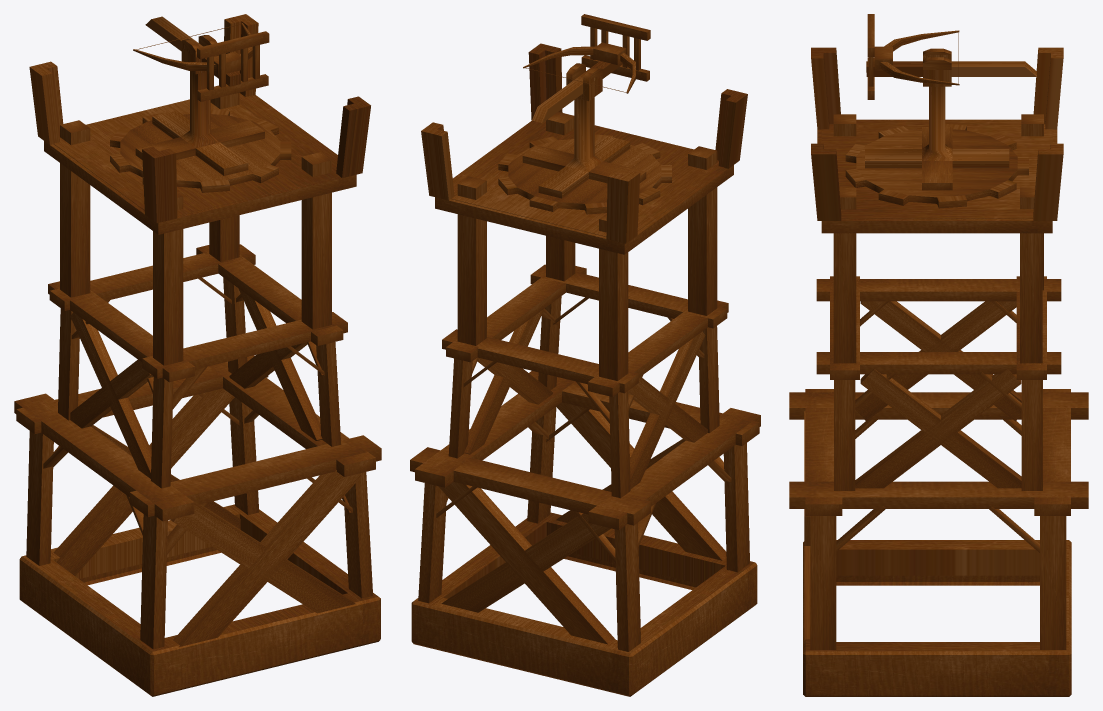
File: ballista.fbx
The picture shows the model from 3 angles, left to right: view 1: azimuth 30°, elevation 25°; view 2: azimuth 150°, elevation 25°; view 3: azimuth 270°, elevation 25°; orthographic projection. The views are drawn at different scales.
Visible parts, largest first — view 1: tower_basic, Houder, Tandwiel, Cube_6, Cube_1, Cube; view 2: tower_basic, Houder, Tandwiel, Cube_6, Cube_1; view 3: tower_basic, Houder, Tandwiel, Cube_6.
Part boxes in pixels (x1,y1,x2,y2): tower_basic: (14,14,381,696); Houder: (135,16,264,175); Tandwiel: (110,109,291,192); Cube_6: (133,23,252,75); Cube_1: (197,31,269,59); Cube: (197,74,268,101); tower_basic: (410,43,760,696); Houder: (522,61,646,198); Tandwiel: (498,134,671,214); Cube_6: (523,42,635,93); Cube_1: (581,14,650,40); tower_basic: (789,47,1088,696); Houder: (865,48,1036,190); Tandwiel: (845,124,1028,208); Cube_6: (874,30,959,85).
Bounding box in the file's own units: 340 × 840 × 374.
Materials: 1 (1 with a texture image).
